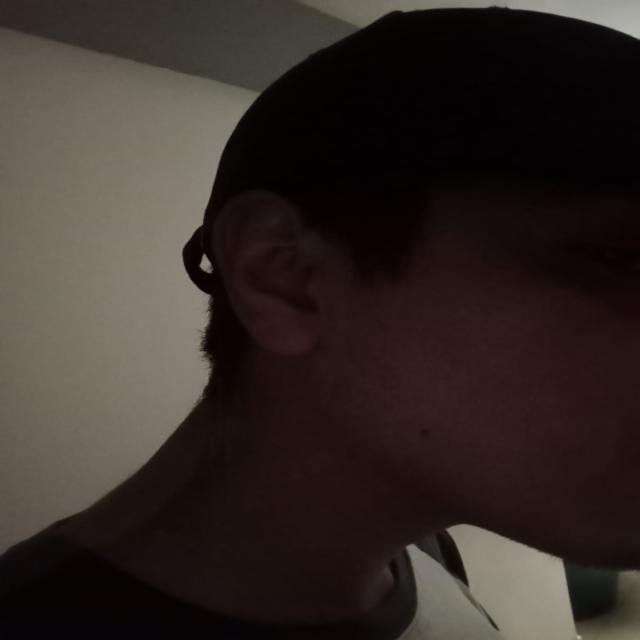ear: (212, 190, 345, 356)
